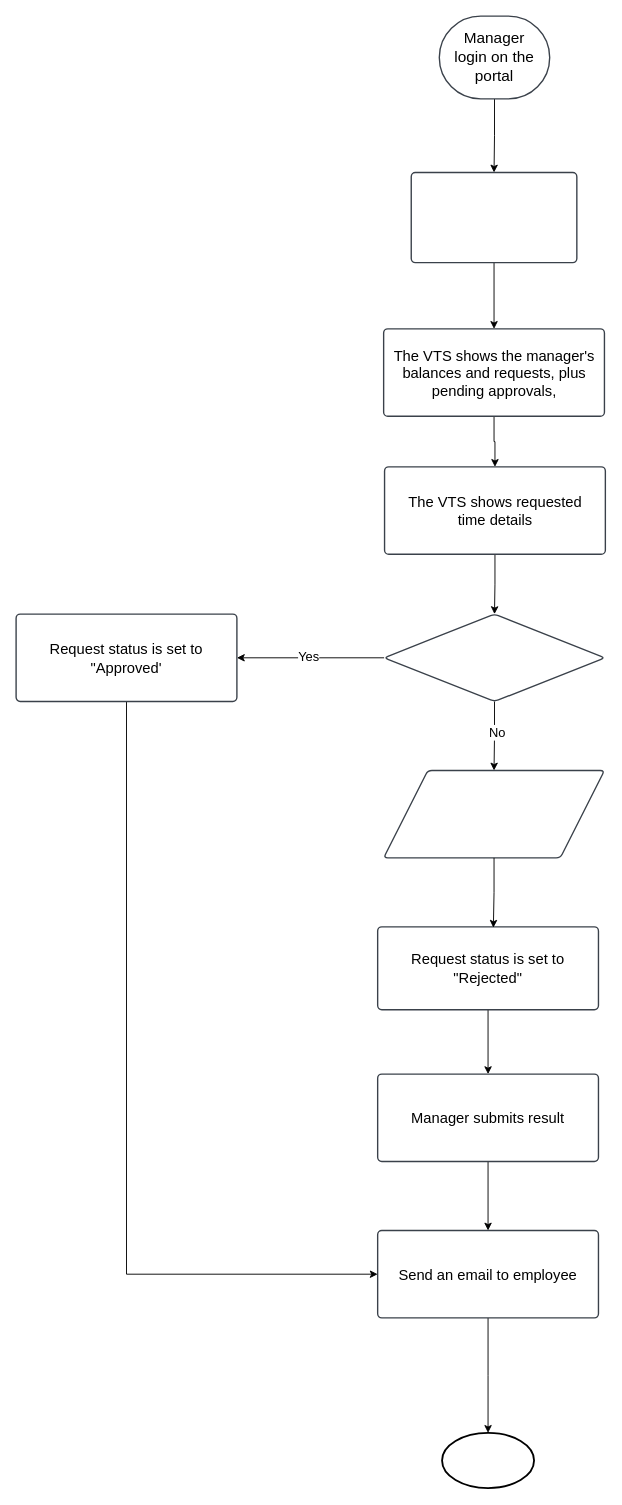
Image size: 622x1505. Some labels were removed from this diagram. The shapes that lost their labels are listed below. From the top down, each one's centre as x and y in pixels, then its label:
(493,217): Manger navigate to VTS homepage
(494,657): Manager Approve
(494,813): Manager enters explanation
(488,1460): End
